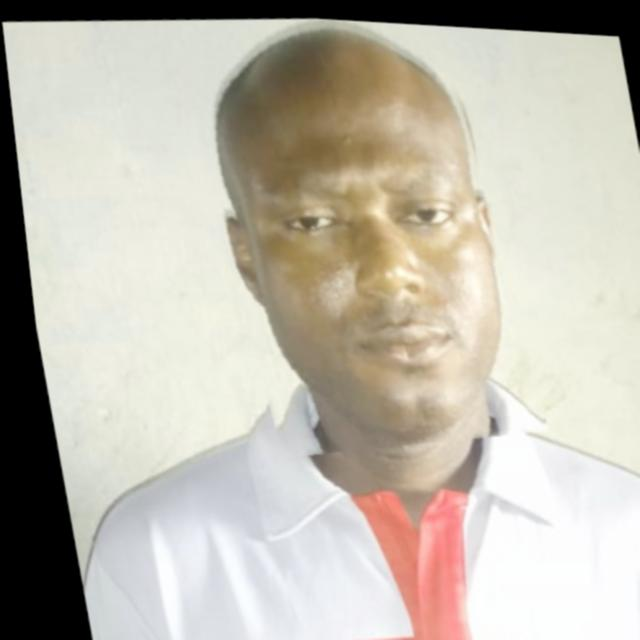sad: (174, 8, 534, 462)
